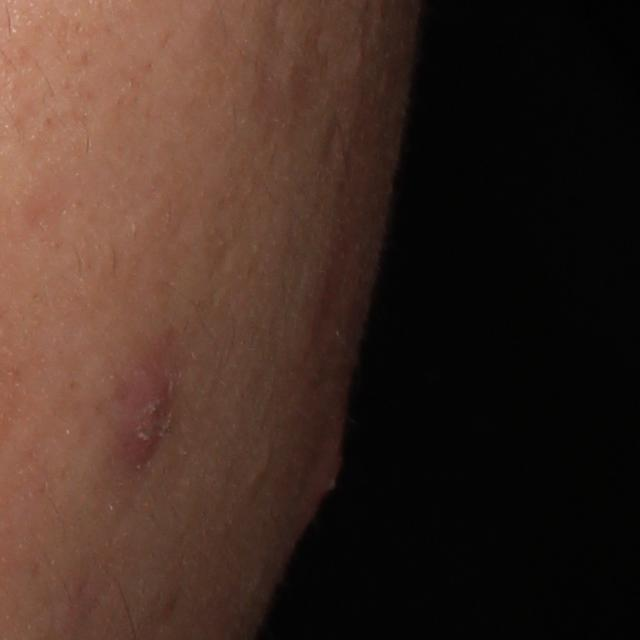atrophic_scar: (297, 15, 360, 129), (315, 110, 355, 188)
papule: (104, 353, 169, 479)
